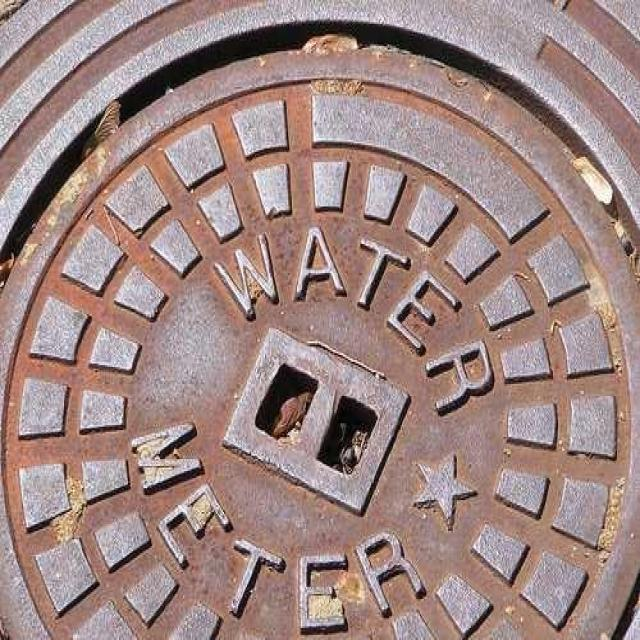manhole: (0, 39, 640, 640)
